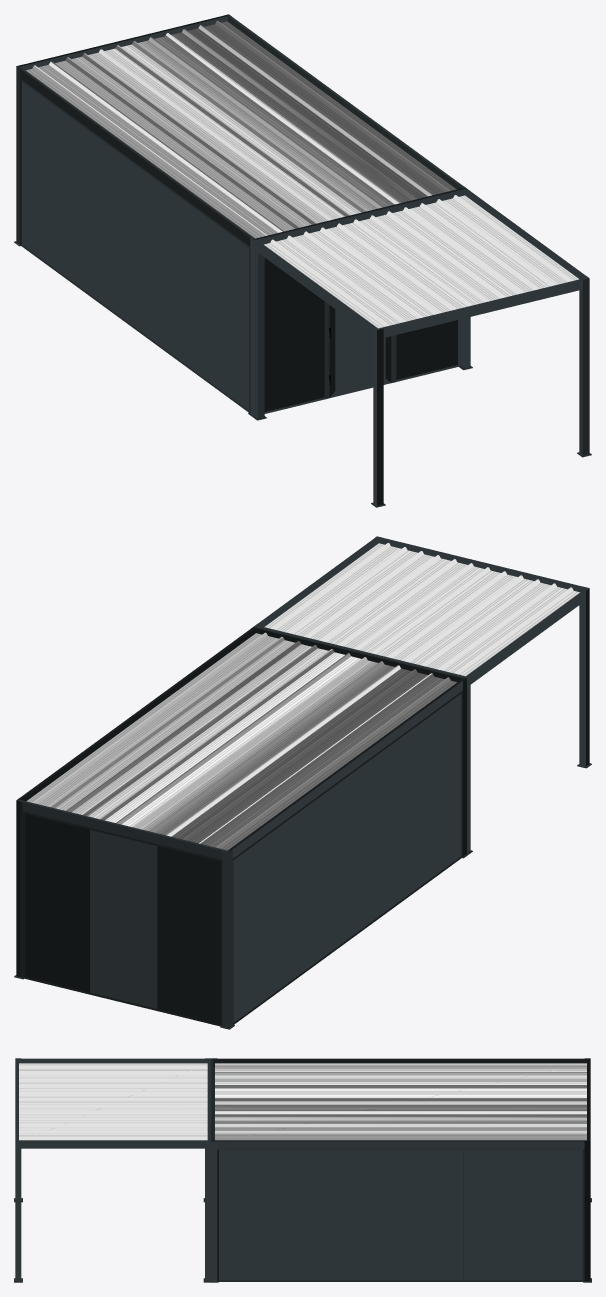
File: 13443_carport3x3abri6x3.fbx
The picture shows the model from 3 angles, top to bottom: view 1: azimuth 30°, elevation 25°; view 2: azimuth 150°, elevation 25°; view 3: azimuth 270°, elevation 25°; orthographic projection. The views are drawn at different scales.
Parts seen in each view (by area): view 1: priximbattable_net_abris_de_voiture_13443_module_carport_abr, folha, porta; view 2: priximbattable_net_abris_de_voiture_13443_module_carport_abr; view 3: priximbattable_net_abris_de_voiture_13443_module_carport_abr.
Part boxes in pixels (bbox=[...]): priximbattable_net_abris_de_voiture_13443_module_carport_abr: bbox=[14, 14, 591, 507]; folha: bbox=[329, 305, 391, 398]; porta: bbox=[324, 301, 396, 399]; priximbattable_net_abris_de_voiture_13443_module_carport_abr: bbox=[14, 536, 591, 1029]; priximbattable_net_abris_de_voiture_13443_module_carport_abr: bbox=[14, 1058, 591, 1282].
Size of the model in its own units: 324 by 254 by 944.
1 material, 1 textured.
